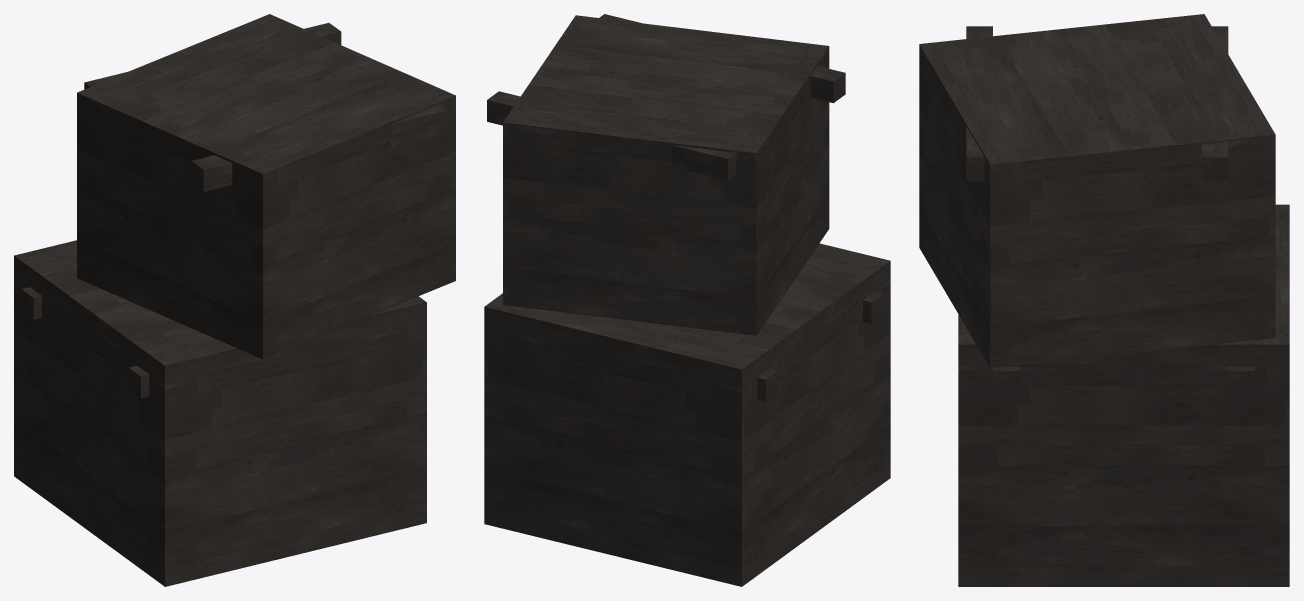
The model's file is prop_ashmoor_crates.glb.
3 renders of one model, left to right at view 1: azimuth 30°, elevation 25°; view 2: azimuth 150°, elevation 25°; view 3: azimuth 270°, elevation 25°, orthographic. The views are drawn at different scales.
Parts seen in each view (by area): view 1: prop_ashmoor_crates; view 2: prop_ashmoor_crates; view 3: prop_ashmoor_crates.
Boxes of the visible parts, left/top/right/bottom form: prop_ashmoor_crates: left=14, top=14, right=455, bottom=586; prop_ashmoor_crates: left=484, top=14, right=890, bottom=586; prop_ashmoor_crates: left=919, top=14, right=1289, bottom=586.
Size of the model in its own units: 0.7434 by 0.92 by 0.6934.
Materials: 1 (1 with a texture image).
